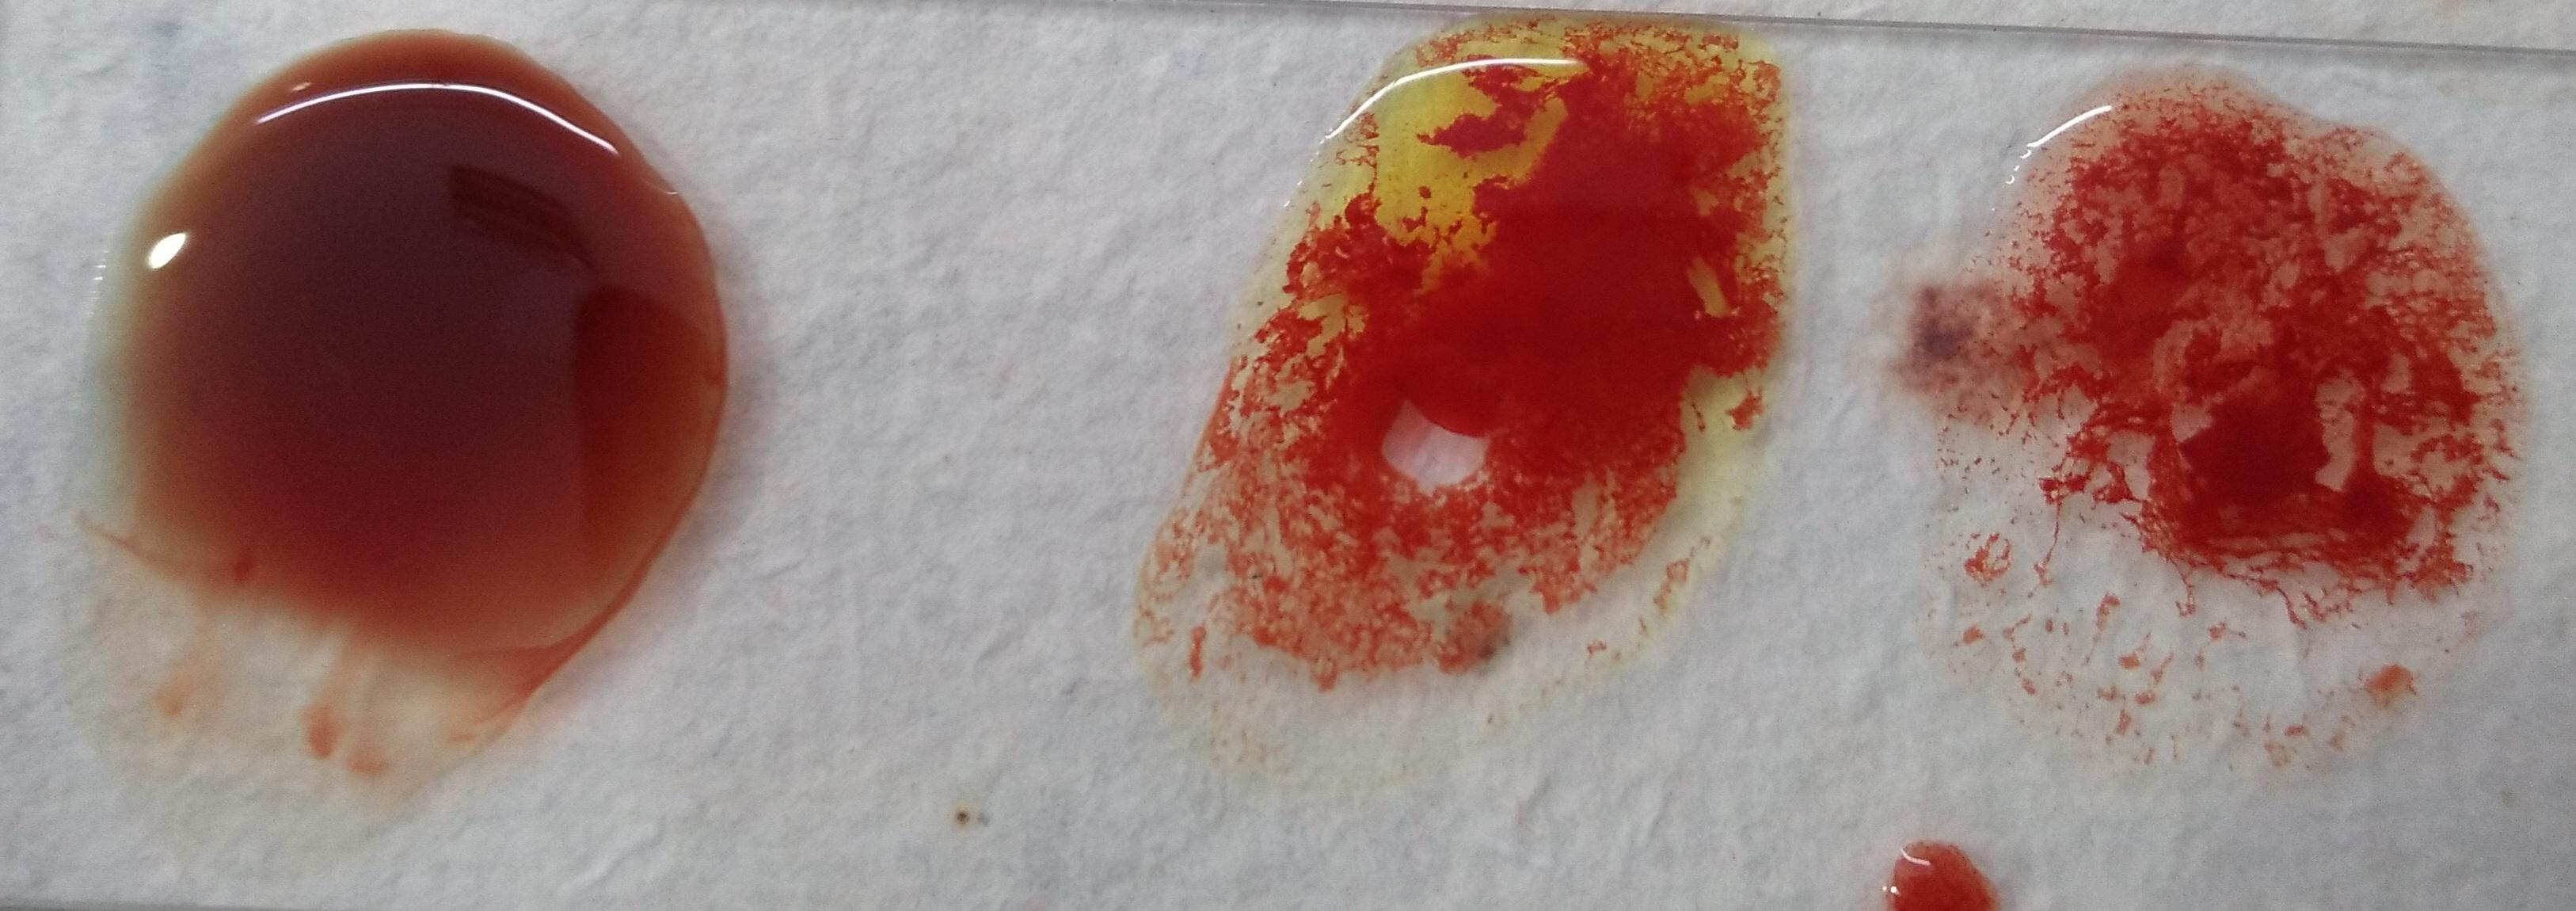B: (1196, 18, 1758, 705)
D: (1948, 64, 2523, 766)
